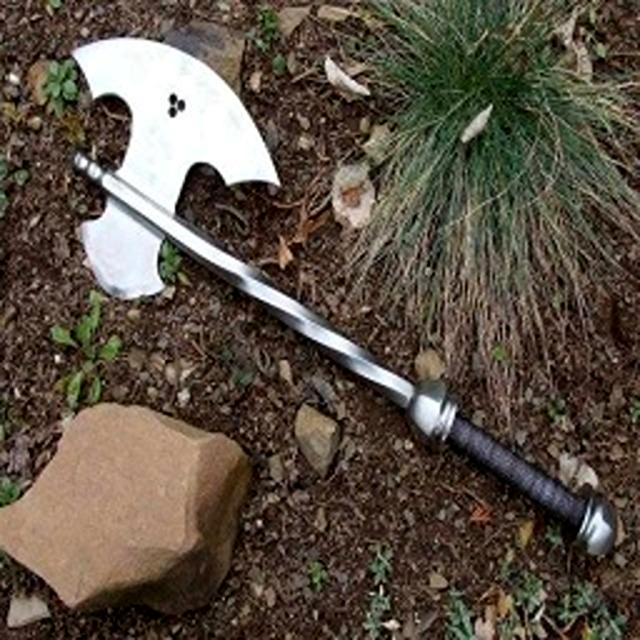ax: (67, 33, 627, 562)
